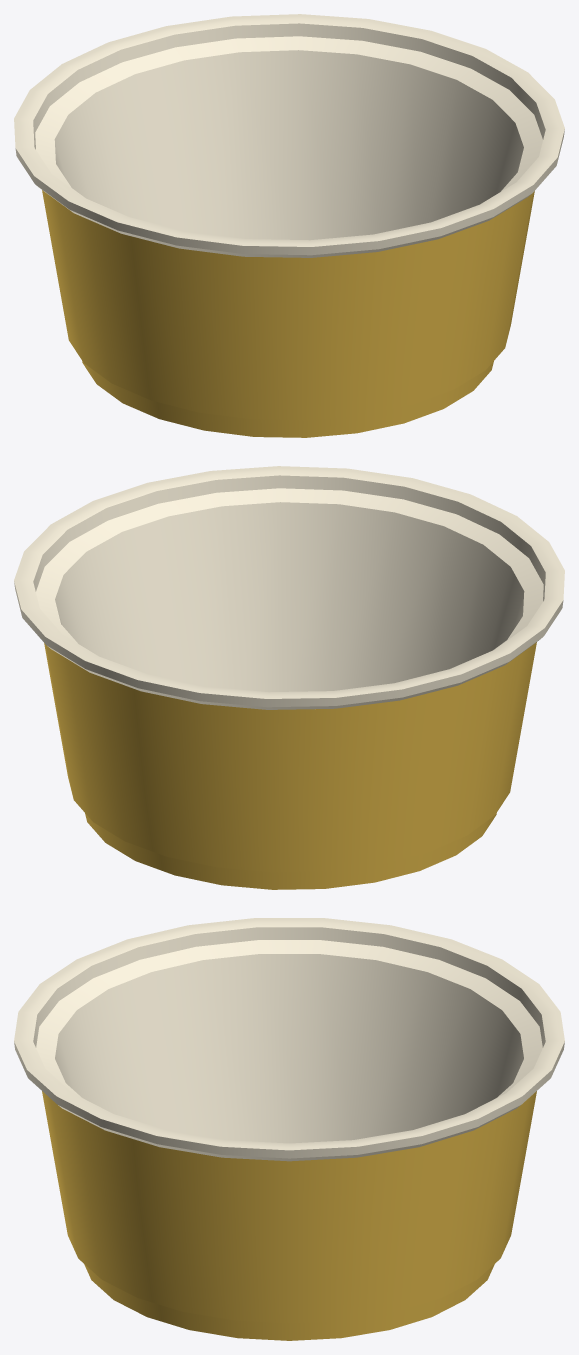
Rendered from Cup M Yellow.fbx.
The picture shows the model from 3 angles, top to bottom: view 1: azimuth 30°, elevation 25°; view 2: azimuth 150°, elevation 25°; view 3: azimuth 270°, elevation 25°; orthographic projection.
Parts seen in each view (by area): view 1: Cup M Yellow; view 2: Cup M Yellow; view 3: Cup M Yellow.
Boxes of the visible parts, x1=… form: Cup M Yellow: x1=14, y1=14, x2=564, y2=437; Cup M Yellow: x1=14, y1=466, x2=564, y2=889; Cup M Yellow: x1=14, y1=918, x2=564, y2=1340.
Size of the model in its own units: 0.9488 by 0.4176 by 0.9507.
